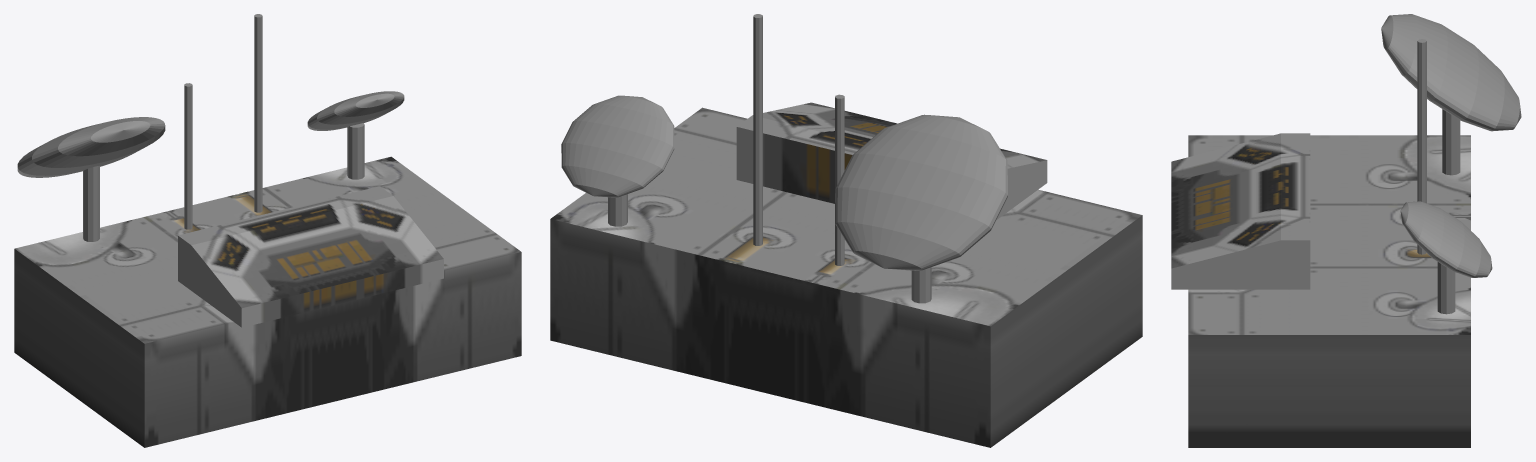
File: Building_CommsConsole.obj
3 views of the same model, side by side, from view 1: azimuth 30°, elevation 25°; view 2: azimuth 150°, elevation 25°; view 3: azimuth 270°, elevation 25° (orthographic). The views are drawn at different scales.
Visible parts, largest first — view 1: Body; view 2: Body; view 3: Body.
Boxes of the visible parts, left/top/right/bottom form: Body: left=14, top=14, right=521, bottom=447; Body: left=550, top=14, right=1142, bottom=447; Body: left=1171, top=14, right=1521, bottom=447.
Bounding box in the file's own units: 3.03 × 2.3 × 2.25.
Materials: 1 (1 with a texture image).
